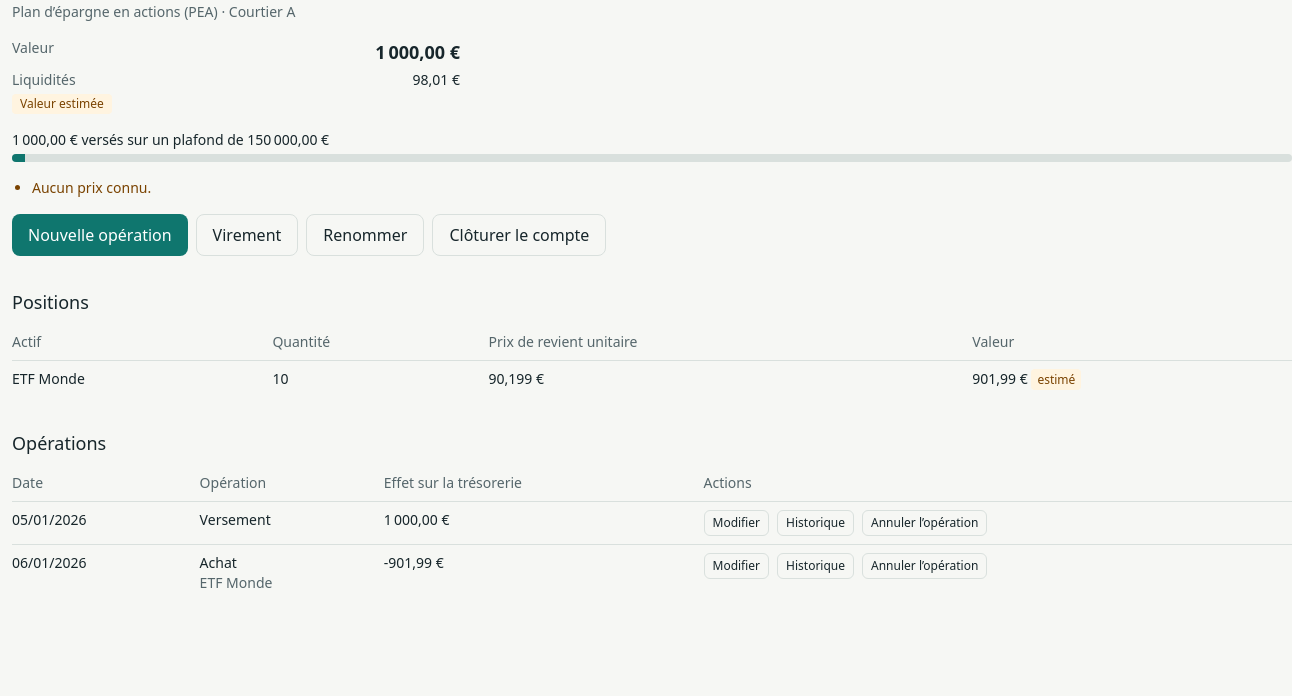
Test: opérations › passe les quantités détenues au formulaire pour prévenir d’une vente excédentaire
Expected: the table named "Opérations" is shown, top-left (12, 465), bottom-right (1291, 601)
Click the button "Nouvelle opération" at (100, 235), box top-left (12, 214), bottom-right (188, 256)
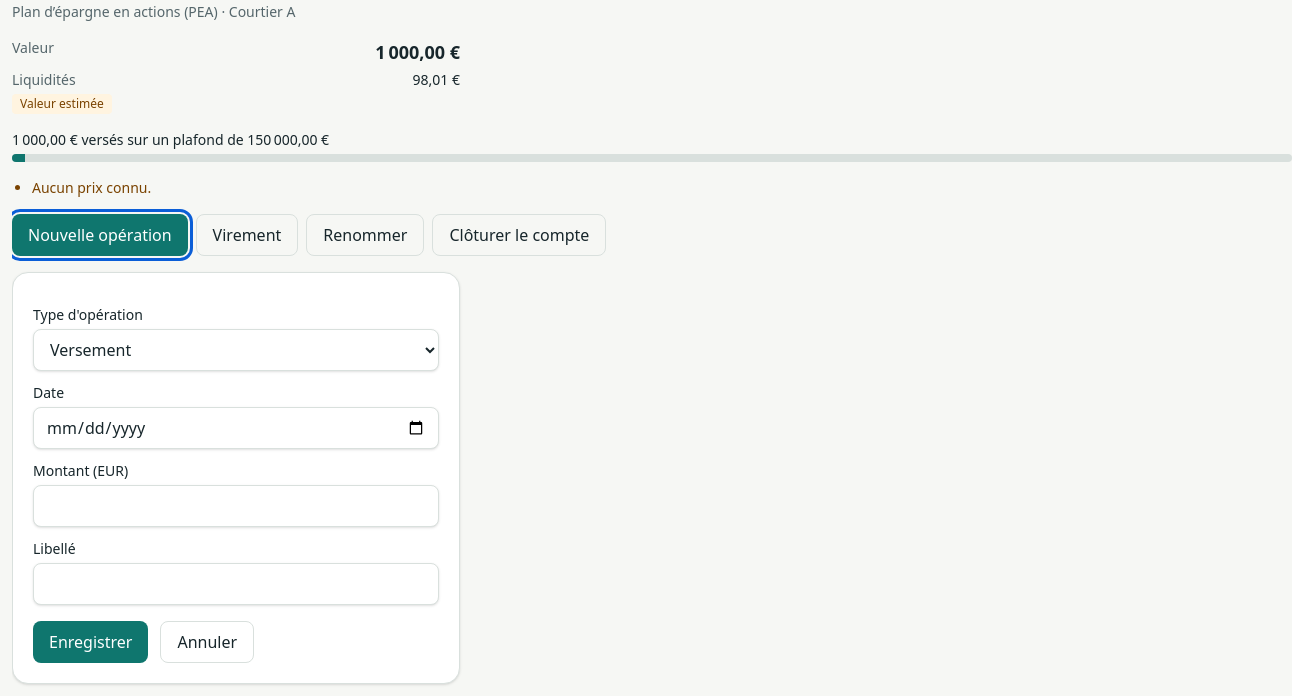
Select "Vente" in the dropdown labelled "Type d'opération" at (236, 350), box top-left (33, 329), bottom-right (439, 371)
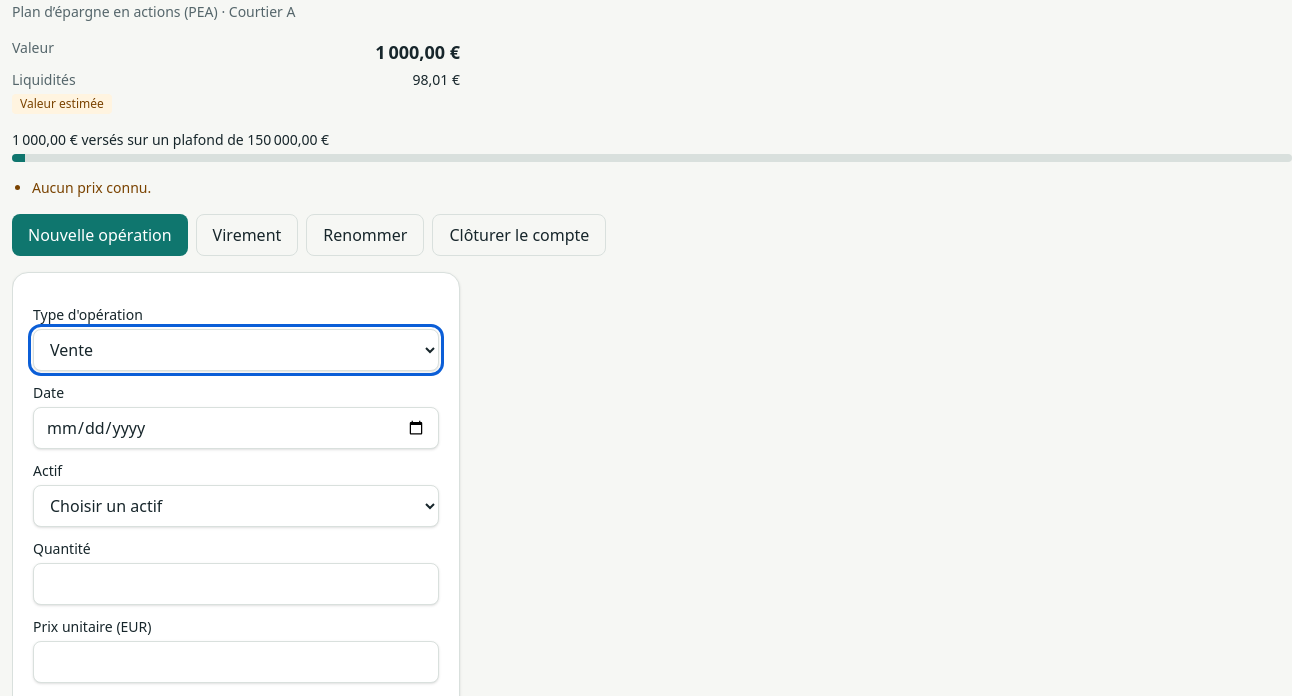
Select "ETF Monde" in the dropdown labelled "Actif" at (236, 506), box top-left (33, 485), bottom-right (439, 527)
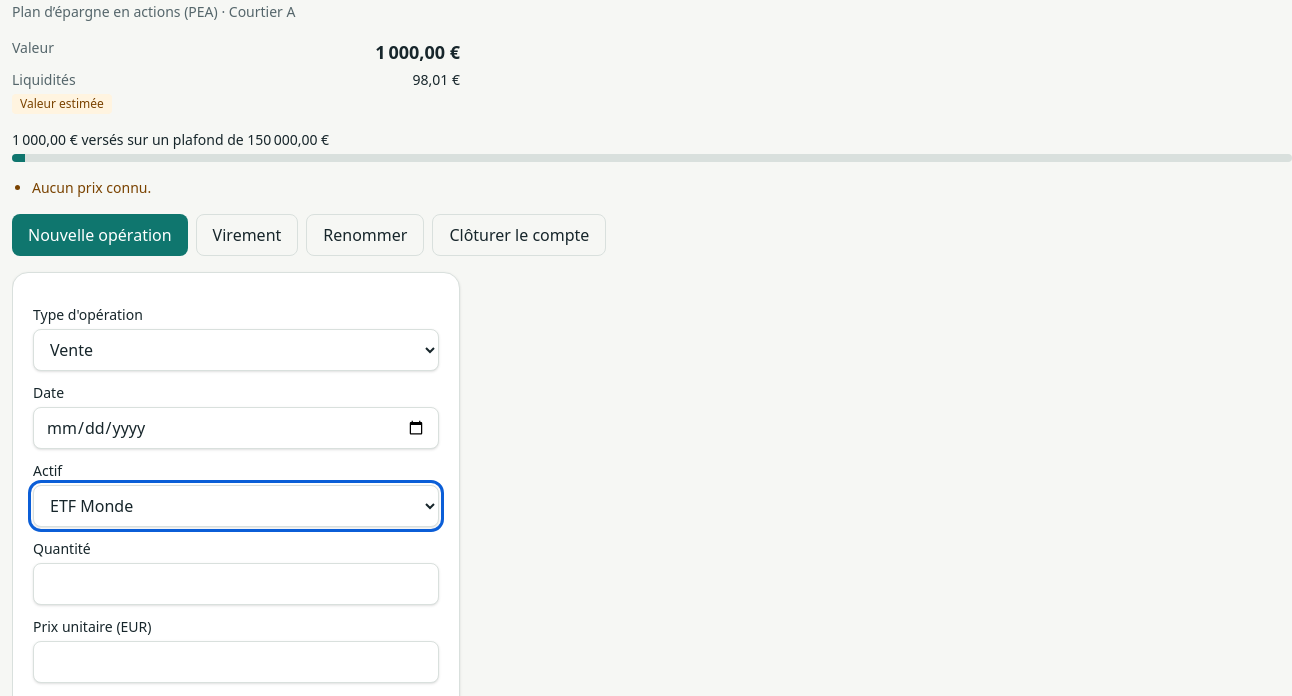
Type "15" into the field labelled "Quantité" at (236, 584), box top-left (33, 563), bottom-right (439, 605)
(page scrolled)
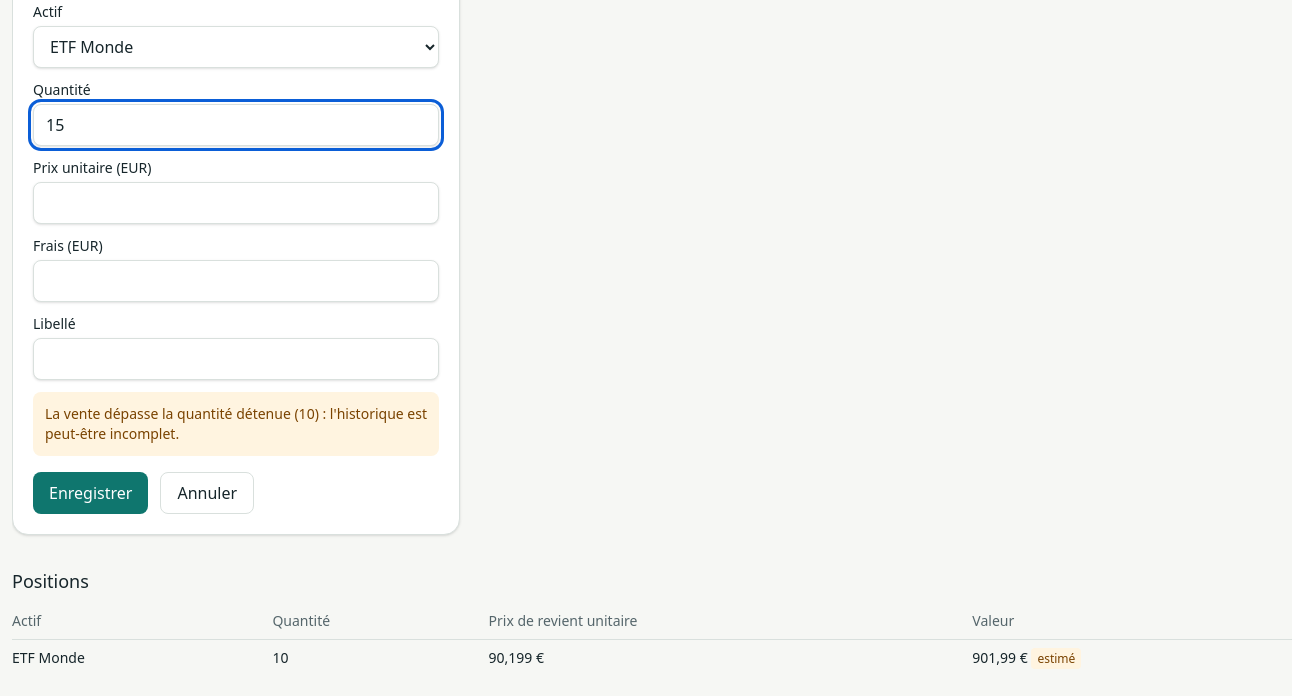
Now the message shows "dépasse la quantité détenue (10)", box top-left (45, 404), bottom-right (427, 443)
